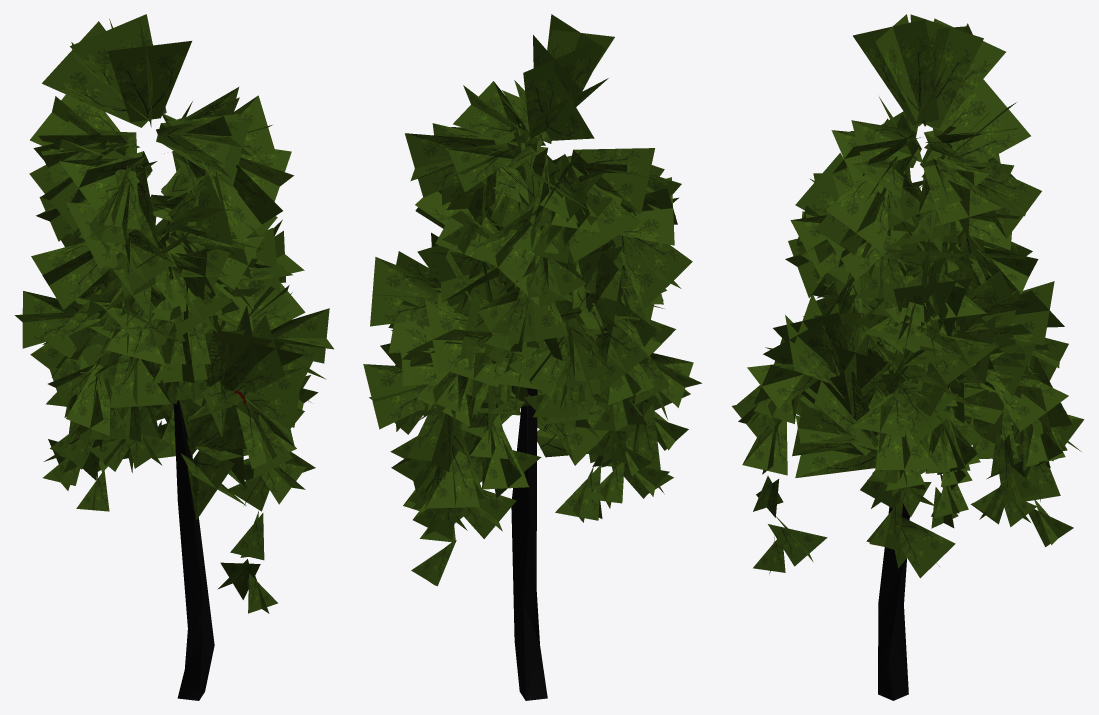
File: birch 5 lod1.FBX
The picture shows the model from 3 angles, left to right: view 1: azimuth 30°, elevation 25°; view 2: azimuth 150°, elevation 25°; view 3: azimuth 270°, elevation 25°; orthographic projection. The views are drawn at different scales.
Visible parts, largest first — view 1: birch5_LOD1; view 2: birch5_LOD1; view 3: birch5_LOD1.
Part boxes in pixels (x1,y1,x2,y2): birch5_LOD1: (14, 14, 333, 700); birch5_LOD1: (363, 14, 701, 700); birch5_LOD1: (732, 14, 1084, 700).
Size of the model in its own units: 64070 by 139974 by 67986.
